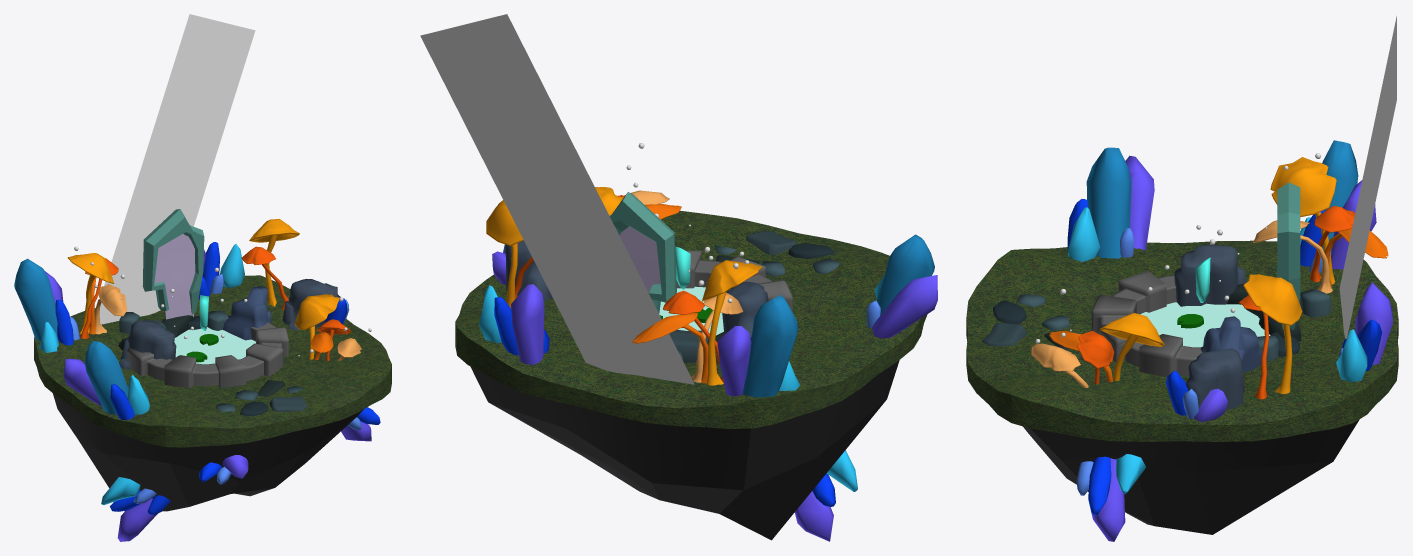
File: AshenGateway.fbx
3 renders of one model, left to right at view 1: azimuth 30°, elevation 25°; view 2: azimuth 150°, elevation 25°; view 3: azimuth 270°, elevation 25°, orthographic. The views are drawn at different scales.
Visible parts, largest first — view 1: light, underfloor, module_floor004, module_floor003, module_floor001, portal001, portalmagic, crystal_E002, module_floor002, crystal_E001, water, rockC001 (+22 smaller); view 2: light, underfloor, module_floor001, module_floor004, module_floor002, crystal_E002, module_floor003, portal001, crystal_D001, crystal_E001, crystal_D002, mushroomC001 (+17 smaller); view 3: underfloor, module_floor003, module_floor002, module_floor004, light, module_floor001, crystal_E001, rockC001, water, mushroomC002, mushroomC001, rockC002 (+31 smaller).
Boxes of the visible parts, left/top/right/bottom form: light: left=99, top=14, right=255, bottom=324; underfloor: left=53, top=393, right=363, bottom=511; module_floor004: left=72, top=375, right=294, bottom=447; module_floor003: left=246, top=324, right=391, bottom=431; module_floor001: left=34, top=308, right=160, bottom=405; portal001: left=142, top=209, right=204, bottom=314; portalmagic: left=154, top=234, right=195, bottom=319; crystal_E002: left=14, top=258, right=58, bottom=341; module_floor002: left=151, top=275, right=353, bottom=340; crystal_E001: left=84, top=341, right=128, bottom=414; water: left=174, top=327, right=255, bottom=364; rockC001: left=119, top=320, right=176, bottom=369; light: left=420, top=14, right=694, bottom=384; underfloor: left=470, top=360, right=899, bottom=540; module_floor001: left=584, top=337, right=877, bottom=428; module_floor004: left=759, top=233, right=927, bottom=374; module_floor002: left=455, top=274, right=610, bottom=407; crystal_E002: left=742, top=295, right=798, bottom=397; module_floor003: left=661, top=210, right=798, bottom=261; portal001: left=609, top=192, right=676, bottom=313; crystal_D001: left=872, top=275, right=937, bottom=338; crystal_E001: left=876, top=234, right=934, bottom=329; crystal_D002: left=511, top=284, right=544, bottom=364; mushroomC001: left=702, top=260, right=762, bottom=385; underfloor: left=1023, top=419, right=1359, bottom=534; module_floor003: left=966, top=333, right=1182, bottom=441; module_floor002: left=1182, top=333, right=1398, bottom=441; module_floor004: left=966, top=242, right=1182, bottom=341; light: left=1339, top=16, right=1396, bottom=338; module_floor001: left=1182, top=240, right=1398, bottom=341; crystal_E001: left=1086, top=147, right=1131, bottom=258; rockC001: left=1174, top=245, right=1246, bottom=306; water: left=1140, top=302, right=1270, bottom=347; mushroomC002: left=1243, top=274, right=1302, bottom=393; mushroomC001: left=1270, top=157, right=1336, bottom=284; rockC002: left=1186, top=348, right=1244, bottom=409.
Size of the model in its own units: 638 by 838 by 586.
24 materials, 1 textured.
